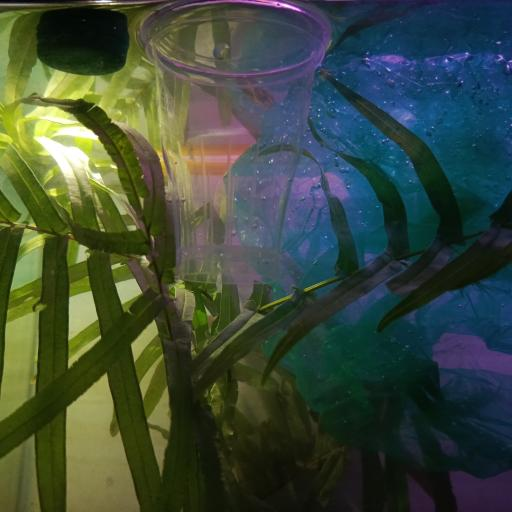bottle_cap: (34, 11, 130, 75)
plastic_bag: (235, 0, 512, 476)
plastic_cup: (134, 0, 336, 288)
plastic_straw: (178, 143, 245, 176)
